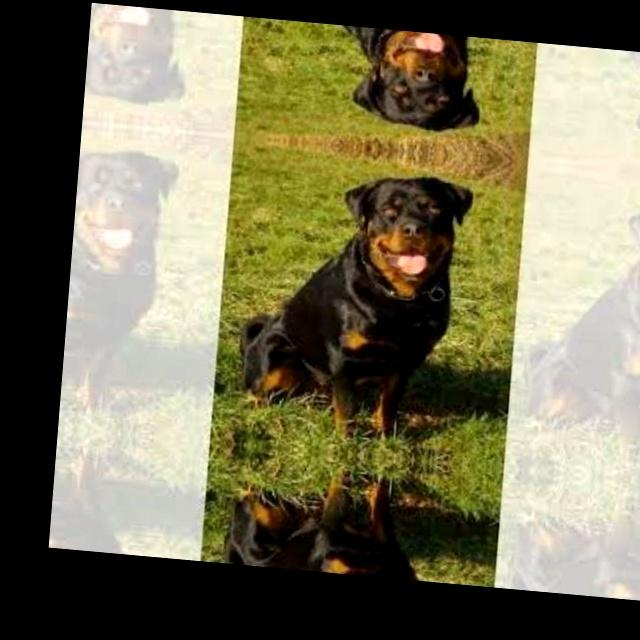dog: (315, 159, 489, 305), (327, 24, 499, 144)
